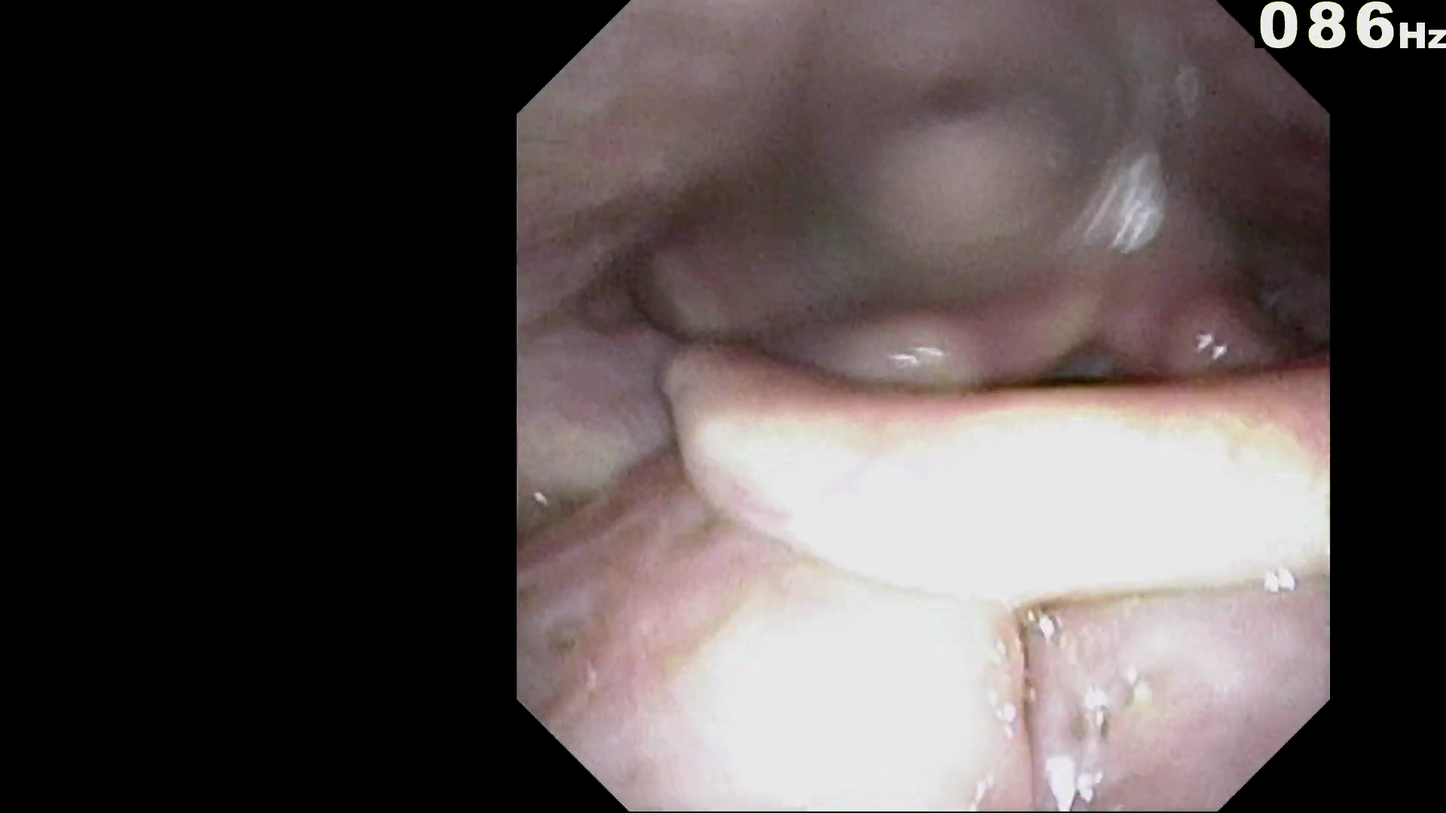epiglottis: (698, 350, 1312, 575)
trachea: (1048, 370, 1150, 455)
